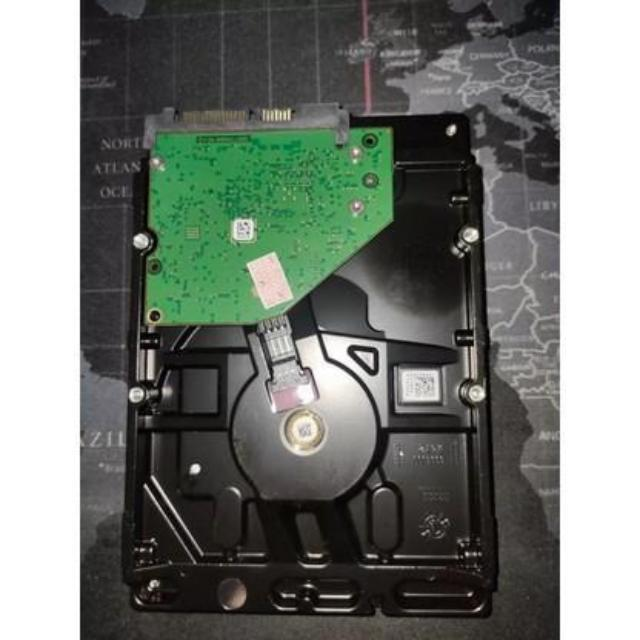DISK: (126, 101, 494, 626)
